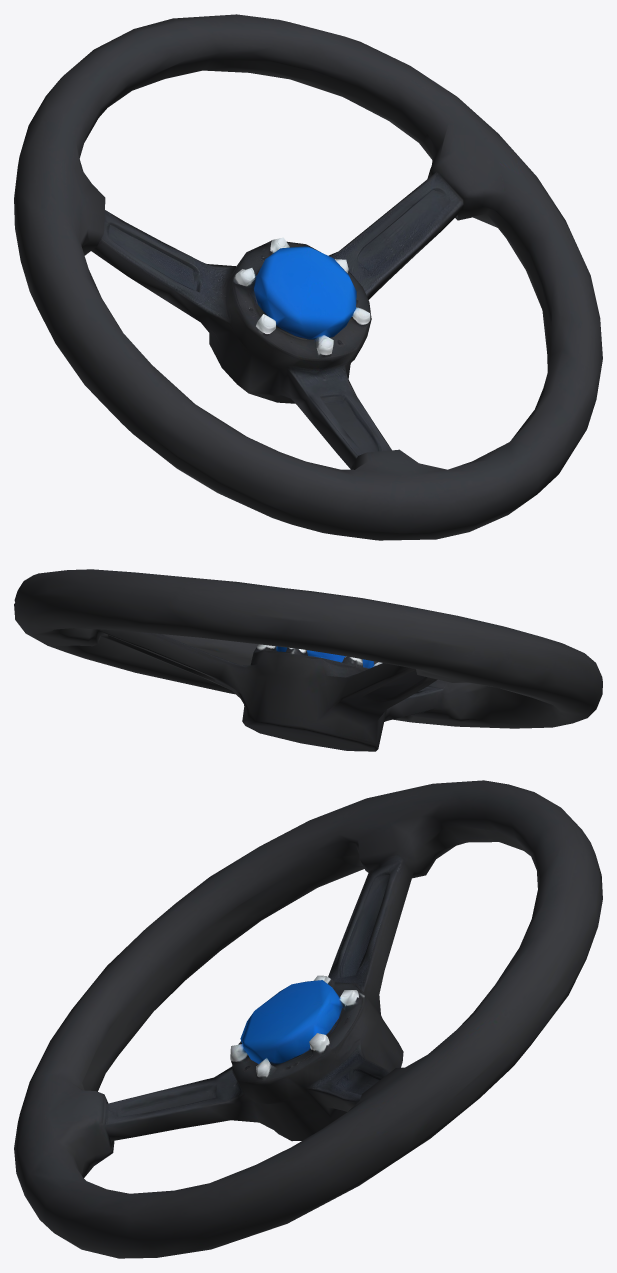
The model's file is patpat_direksiyon.glb.
3 renders of one model, top to bottom at view 1: azimuth 30°, elevation 25°; view 2: azimuth 150°, elevation 25°; view 3: azimuth 270°, elevation 25°, orthographic. The views are drawn at different scales.
Visible parts, largest first — view 1: tripo_node_764bb501-a77f-4a92-ab35-989dafb3e524; view 2: tripo_node_764bb501-a77f-4a92-ab35-989dafb3e524; view 3: tripo_node_764bb501-a77f-4a92-ab35-989dafb3e524.
Boxes of the visible parts, x1,y1,x2,y2 form: tripo_node_764bb501-a77f-4a92-ab35-989dafb3e524: [14, 14, 602, 540]; tripo_node_764bb501-a77f-4a92-ab35-989dafb3e524: [14, 569, 602, 751]; tripo_node_764bb501-a77f-4a92-ab35-989dafb3e524: [14, 780, 602, 1258].
Size of the model in its own units: 0.9798 by 0.5911 by 0.9048.
1 material, 1 textured.
